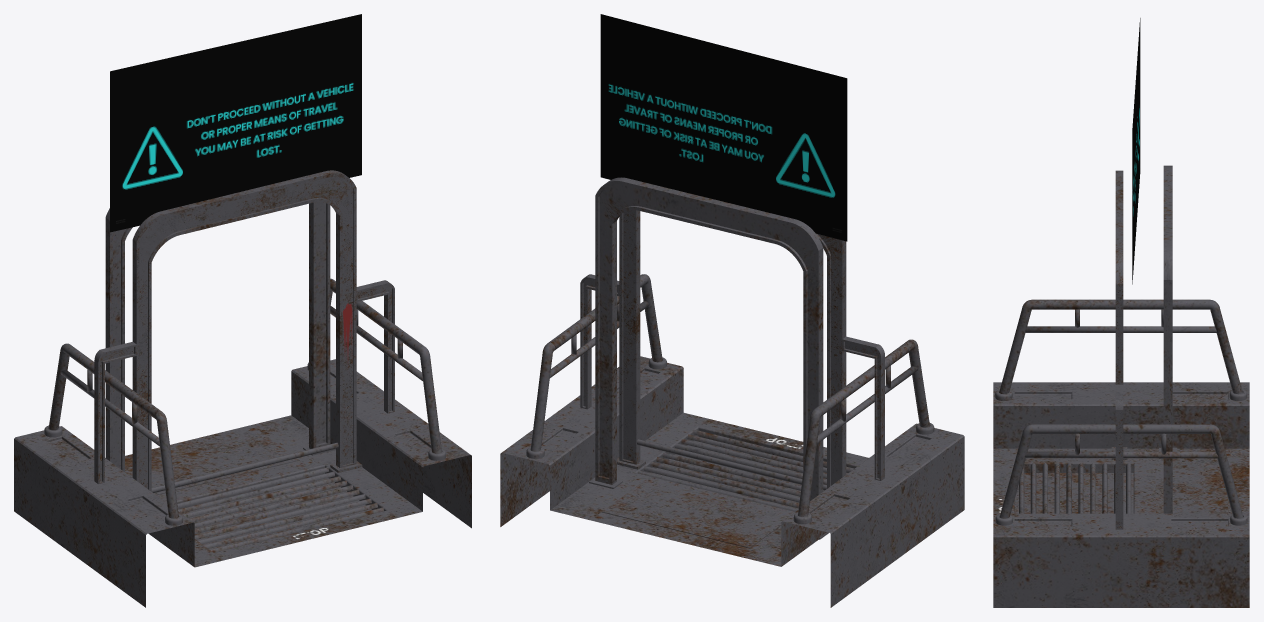
Rendered from entrance.fbx.
3 views of the same model, side by side, from view 1: azimuth 30°, elevation 25°; view 2: azimuth 150°, elevation 25°; view 3: azimuth 270°, elevation 25° (orthographic). The views are drawn at different scales.
Parts seen in each view (by area): view 1: Plane.004, Object_5, SketchUp.011, SketchUp.002, Plane.001, Plane.007, Plane.005, Cylinder.004, Cylinder, Cylinder.001; view 2: Plane.004, Object_5, SketchUp.002, SketchUp.011, Plane.001, Plane.007, Plane.005, Cylinder.004, Cylinder; view 3: Plane.004, Plane.007, Plane.005, SketchUp.002, SketchUp.011, Plane.001, Object_5, Cylinder.001, Cylinder.
Boxes of the visible parts, left/top/right/bottom form: Plane.004: left=14, top=359, right=471, bottom=607; Object_5: left=110, top=14, right=361, bottom=232; SketchUp.011: left=94, top=170, right=394, bottom=491; SketchUp.002: left=105, top=202, right=335, bottom=471; Plane.001: left=177, top=467, right=383, bottom=552; Plane.007: left=48, top=343, right=178, bottom=518; Plane.005: left=330, top=278, right=441, bottom=453; Cylinder.004: left=151, top=442, right=338, bottom=492; Cylinder: left=60, top=370, right=163, bottom=447; Cylinder.001: left=330, top=305, right=433, bottom=382; Plane.004: left=500, top=356, right=964, bottom=607; Object_5: left=600, top=14, right=847, bottom=241; SketchUp.002: left=589, top=177, right=828, bottom=539; SketchUp.011: left=580, top=210, right=884, bottom=488; Plane.001: left=638, top=429, right=853, bottom=511; Plane.007: left=798, top=339, right=929, bottom=516; Plane.005: left=530, top=274, right=662, bottom=451; Cylinder.004: left=637, top=439, right=826, bottom=490; Cylinder: left=817, top=366, right=917, bottom=443; Plane.004: left=993, top=382, right=1249, bottom=607; Plane.007: left=999, top=299, right=1242, bottom=394; Plane.005: left=999, top=424, right=1243, bottom=518; SketchUp.002: left=1159, top=165, right=1177, bottom=513; SketchUp.011: left=1111, top=170, right=1127, bottom=529; Plane.001: left=1019, top=463, right=1131, bottom=513; Object_5: left=1132, top=18, right=1140, bottom=284; Cylinder.001: left=1018, top=451, right=1218, bottom=458; Cylinder: left=1025, top=326, right=1216, bottom=332.
Size of the model in its own units: 629 by 870 by 441.
Materials: 3 (3 with a texture image).
